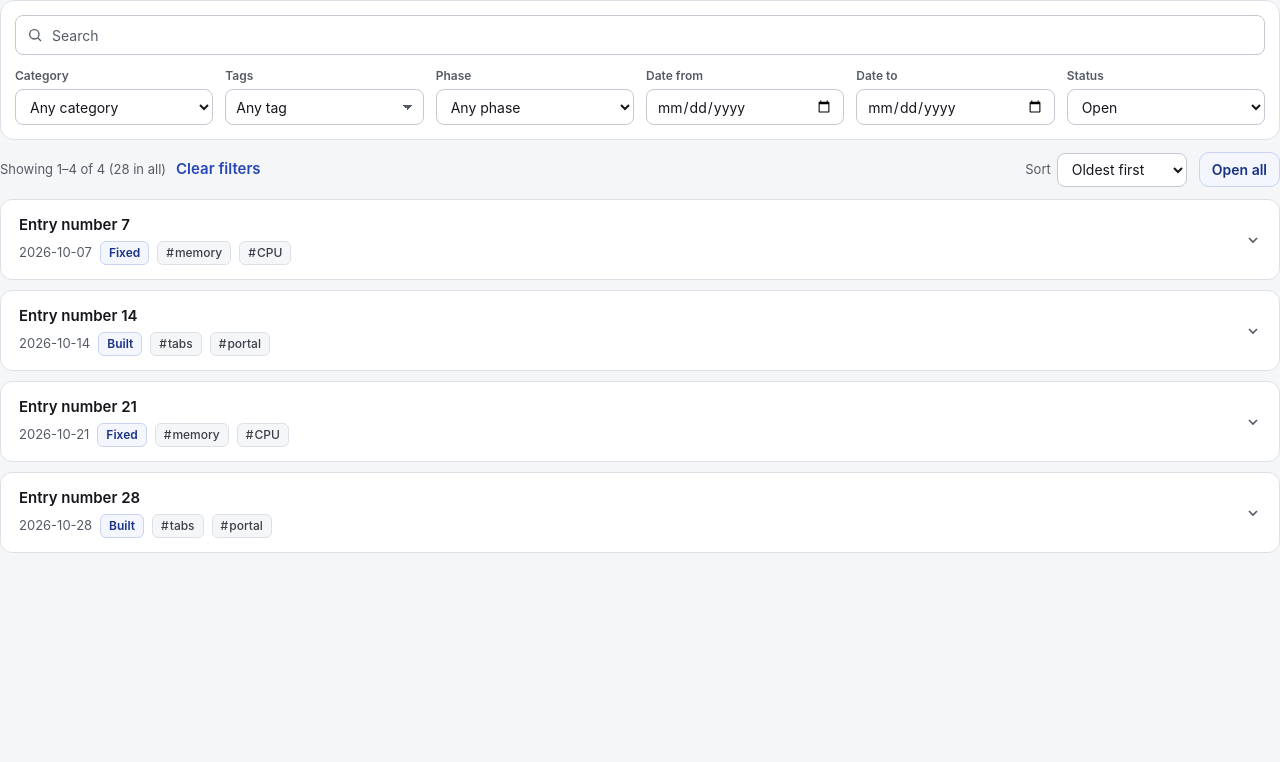
it: Browse › a filter that starts on a value: on at first, Any writes status=any, Clear filters shows all
The width and height of the screenshot is (1280, 762).
Select "Any status" in the dropdown labelled "Status": (1166, 107) top-left (1067, 89), bottom-right (1265, 125)
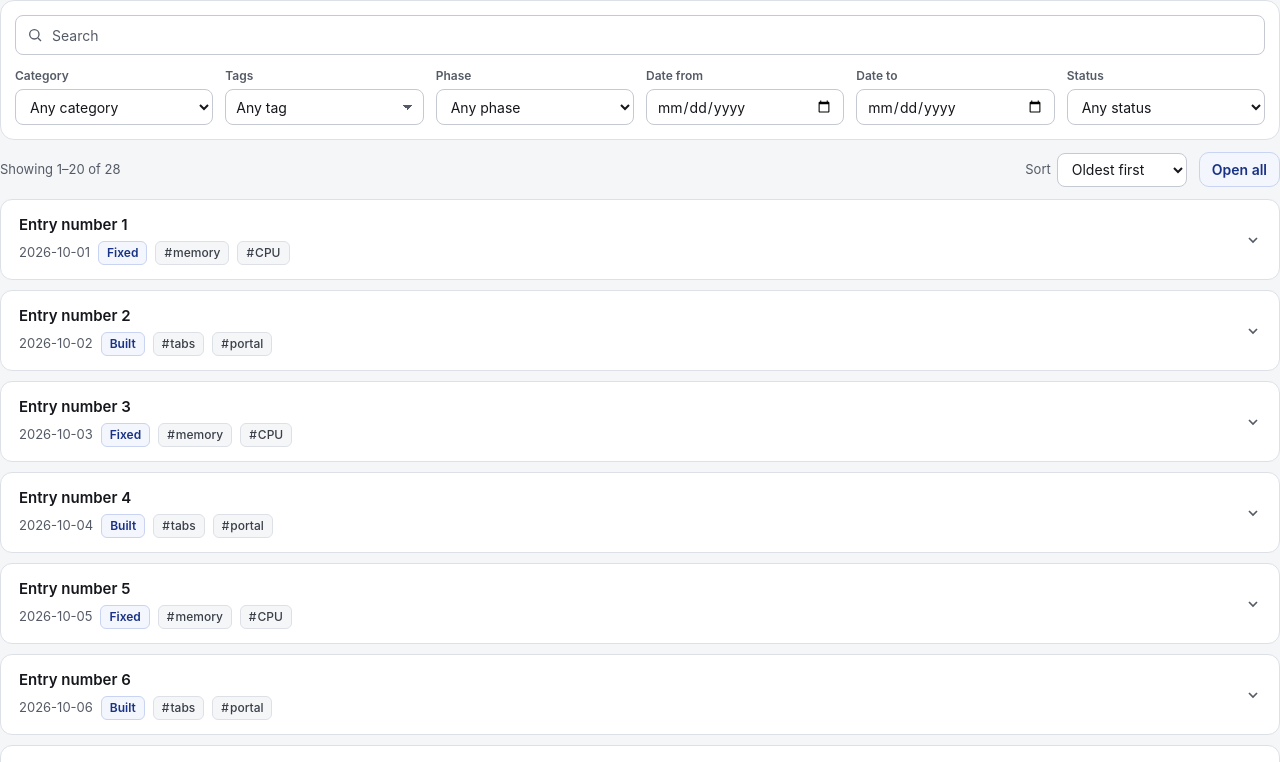
Expected: the text with test id "log-count" reads "Showing 1–20 of 28", top-left (0, 161), bottom-right (120, 177)
Select "Open" in the dropdown labelled "Status": (1166, 107) top-left (1067, 89), bottom-right (1265, 125)
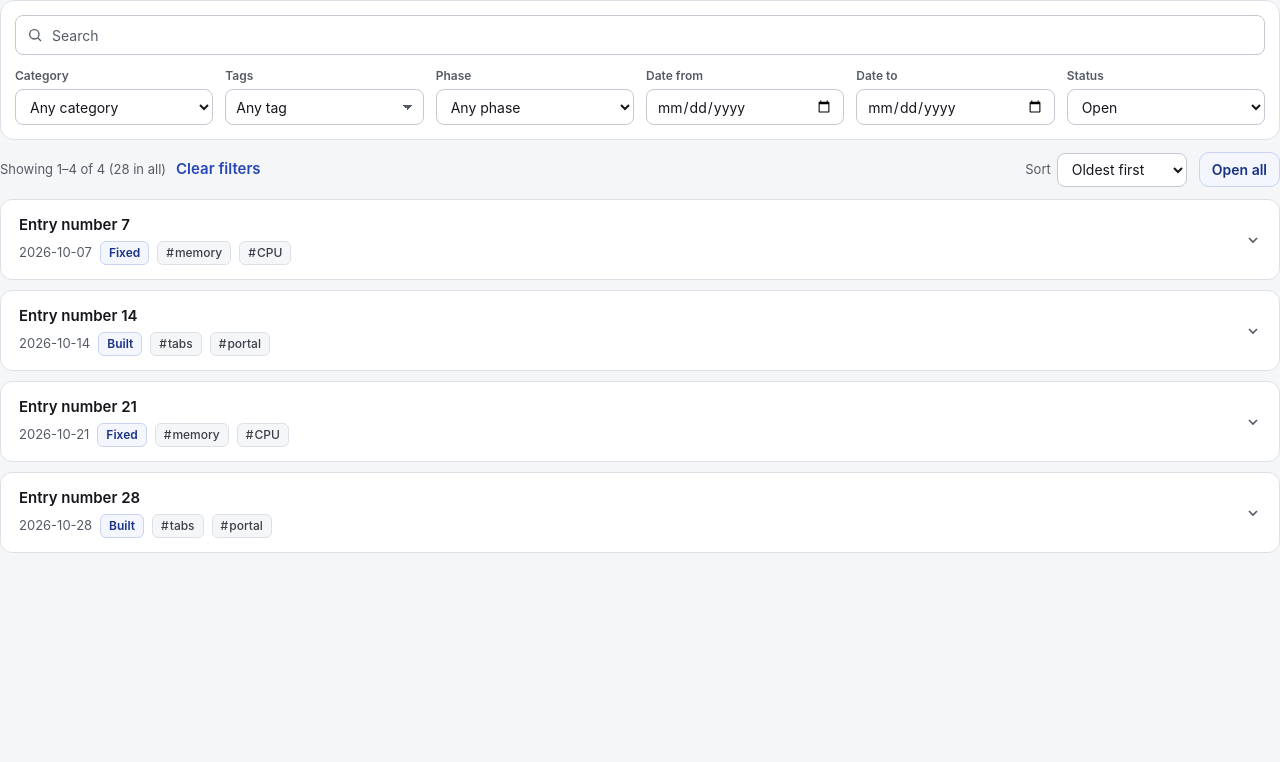
Click the button with test id "log-clear": (218, 169) top-left (176, 158), bottom-right (260, 180)
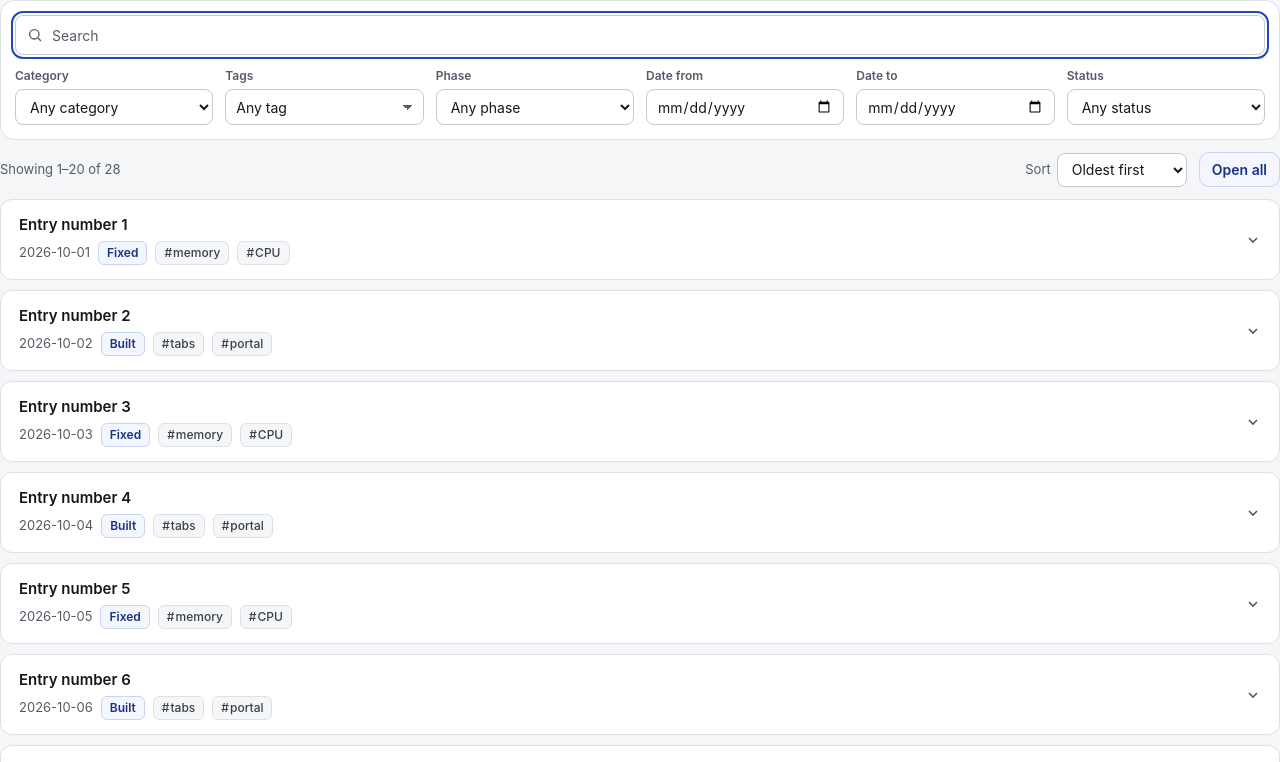
Expected: the text with test id "log-count" reads "Showing 1–20 of 28", top-left (0, 161), bottom-right (120, 177)
